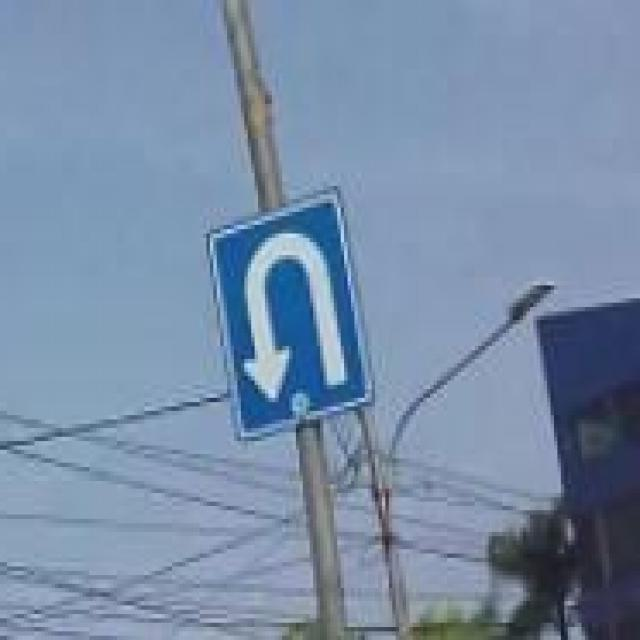U-turn: (211, 188, 368, 444)
